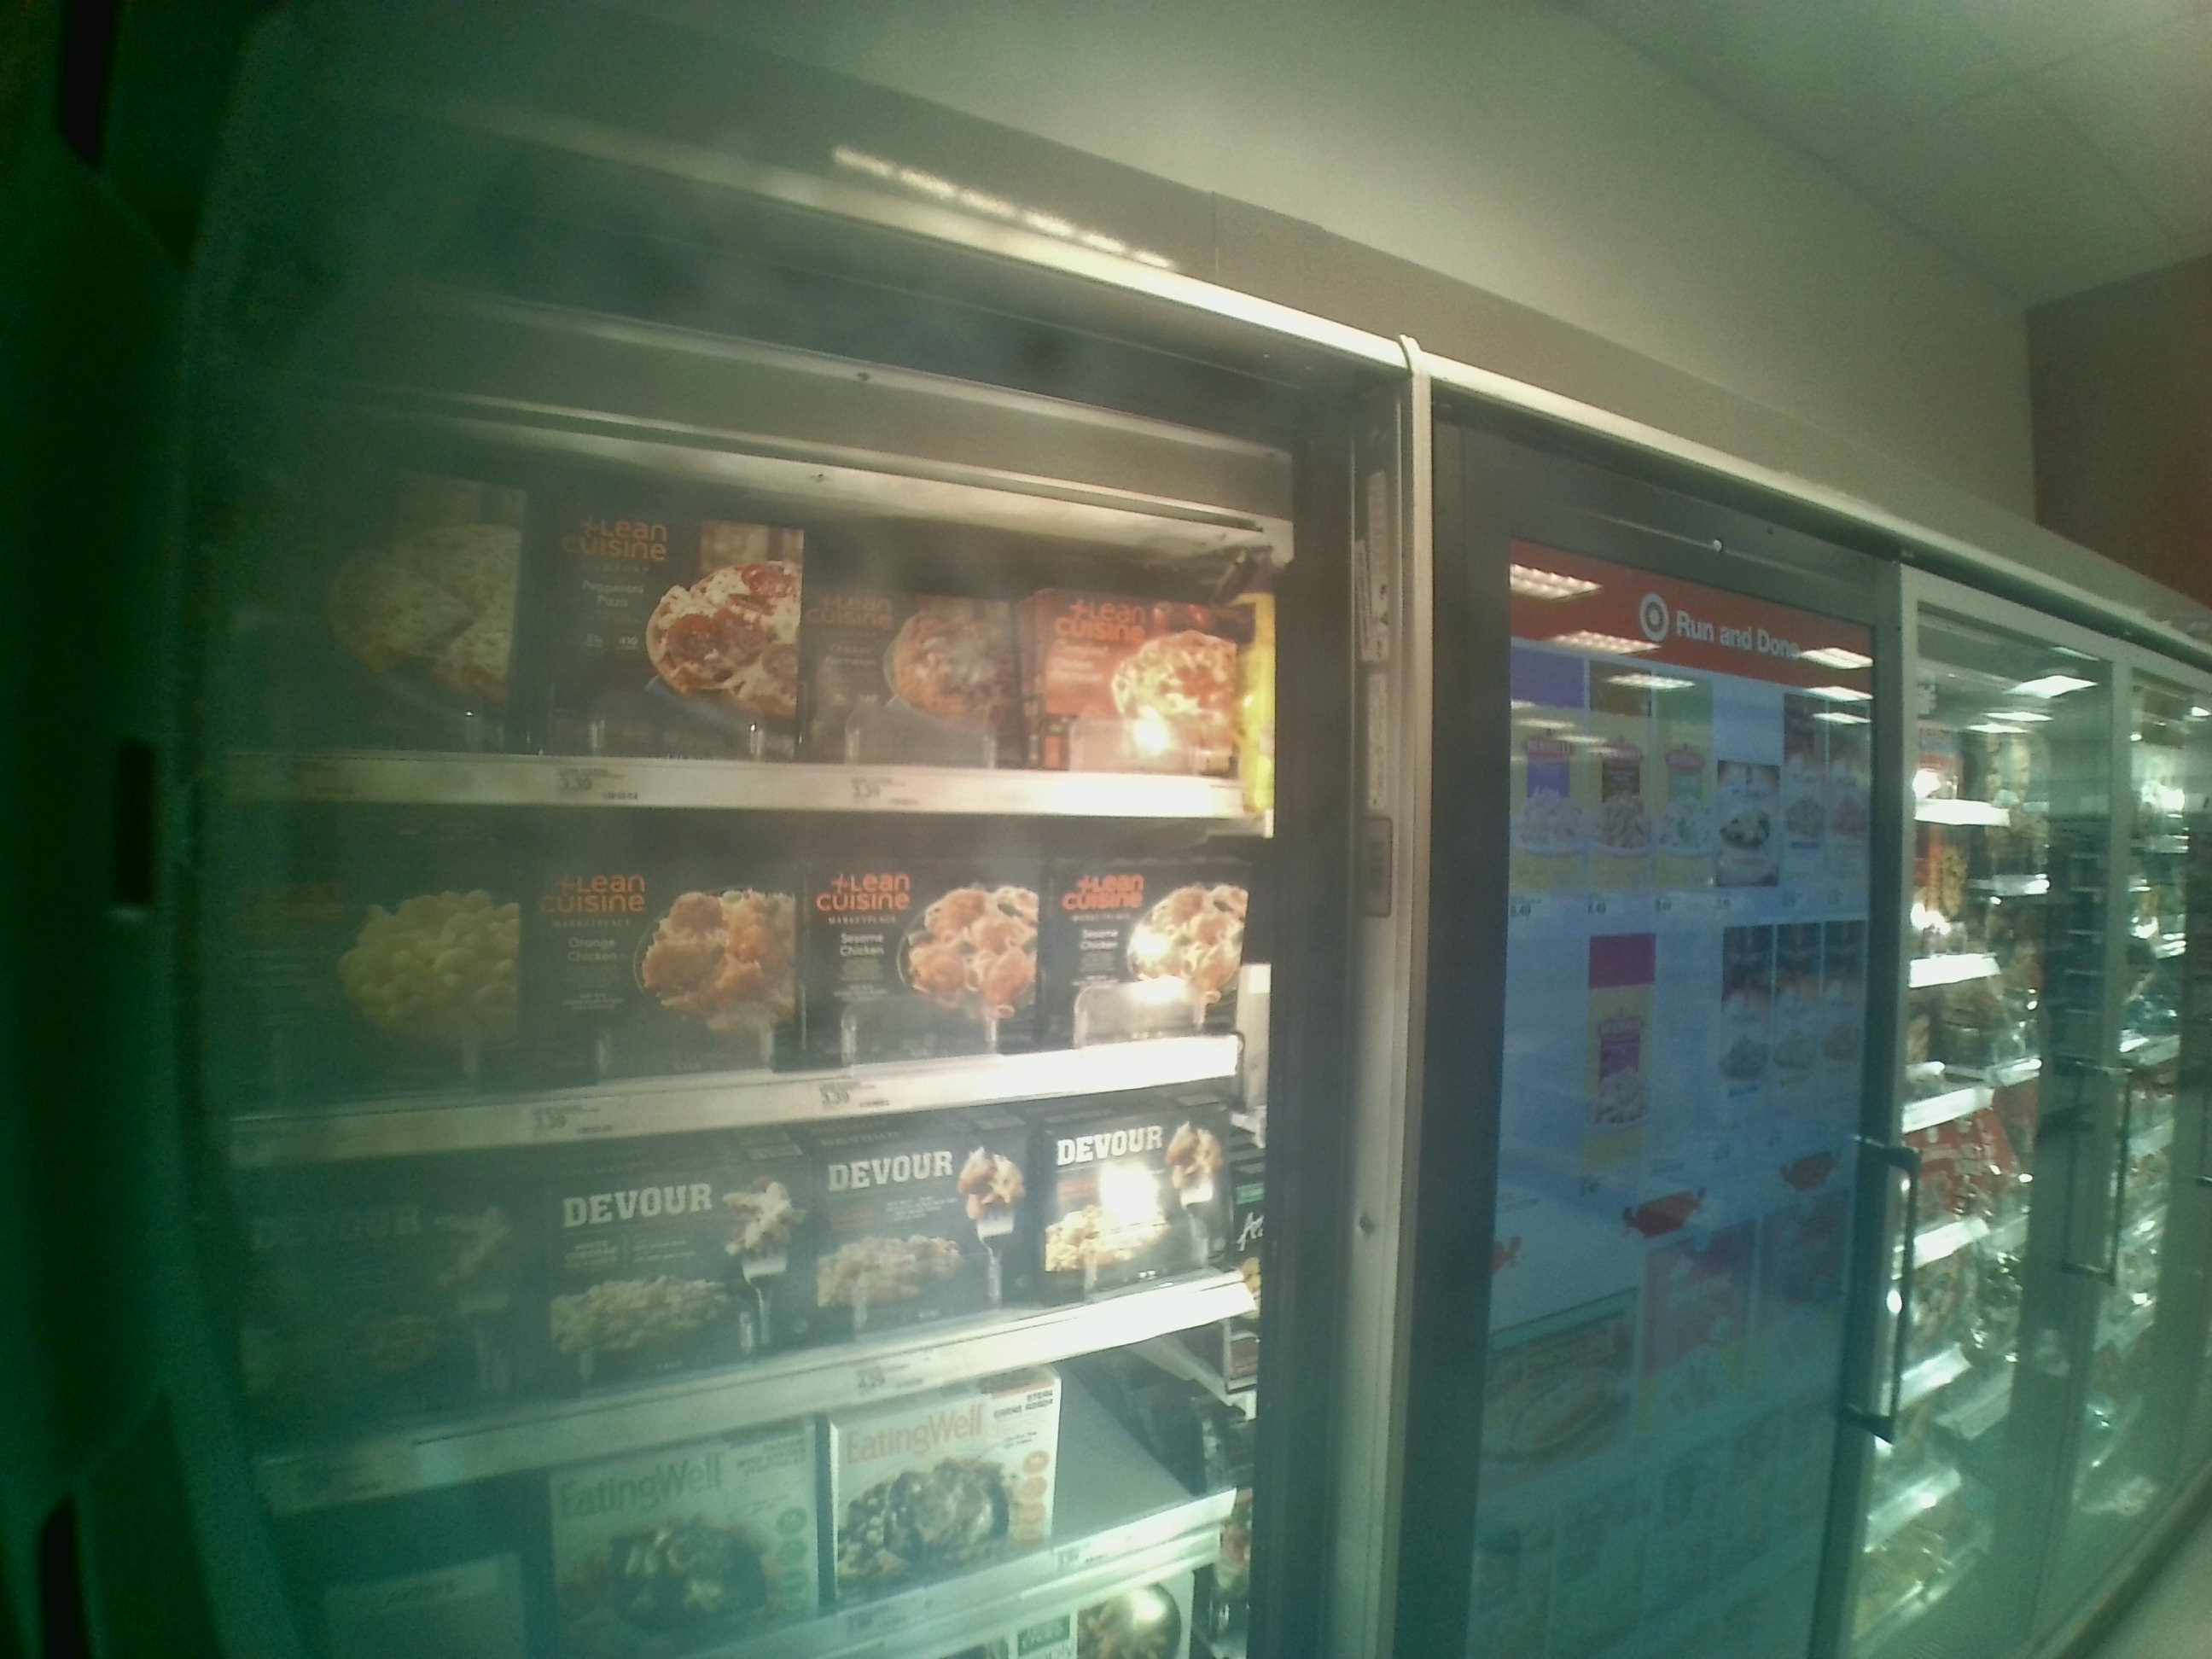shelf: (225, 1073, 1280, 1509), (223, 423, 1264, 821), (223, 807, 1285, 1180)
